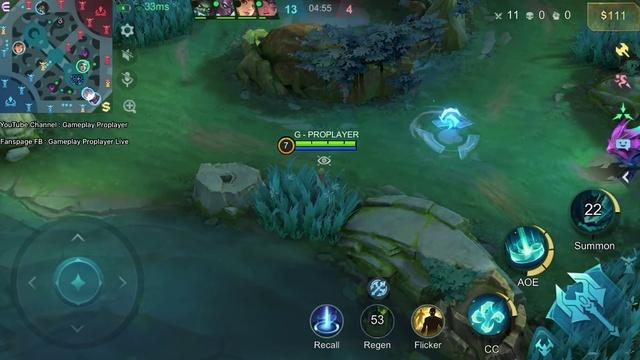Adc_Aliado: (90, 92, 102, 105)
Arbusto: (250, 165, 360, 242), (114, 0, 193, 47)
Exp_Aliado: (35, 1, 50, 15)
HP_Heroe_Principal: (296, 141, 357, 146)
Hechizo_Batalla: (411, 304, 443, 337)
Jungla_Aliado: (12, 41, 27, 55)
Mana: (296, 146, 356, 151)
Mid_Aliado: (76, 59, 90, 75)
Minimapa: (0, 0, 113, 113)
Roamer_Aliado: (82, 86, 93, 100)
Skill1: (467, 294, 509, 335)
Skill2: (503, 225, 554, 275)
Vexana: (304, 163, 339, 222)
